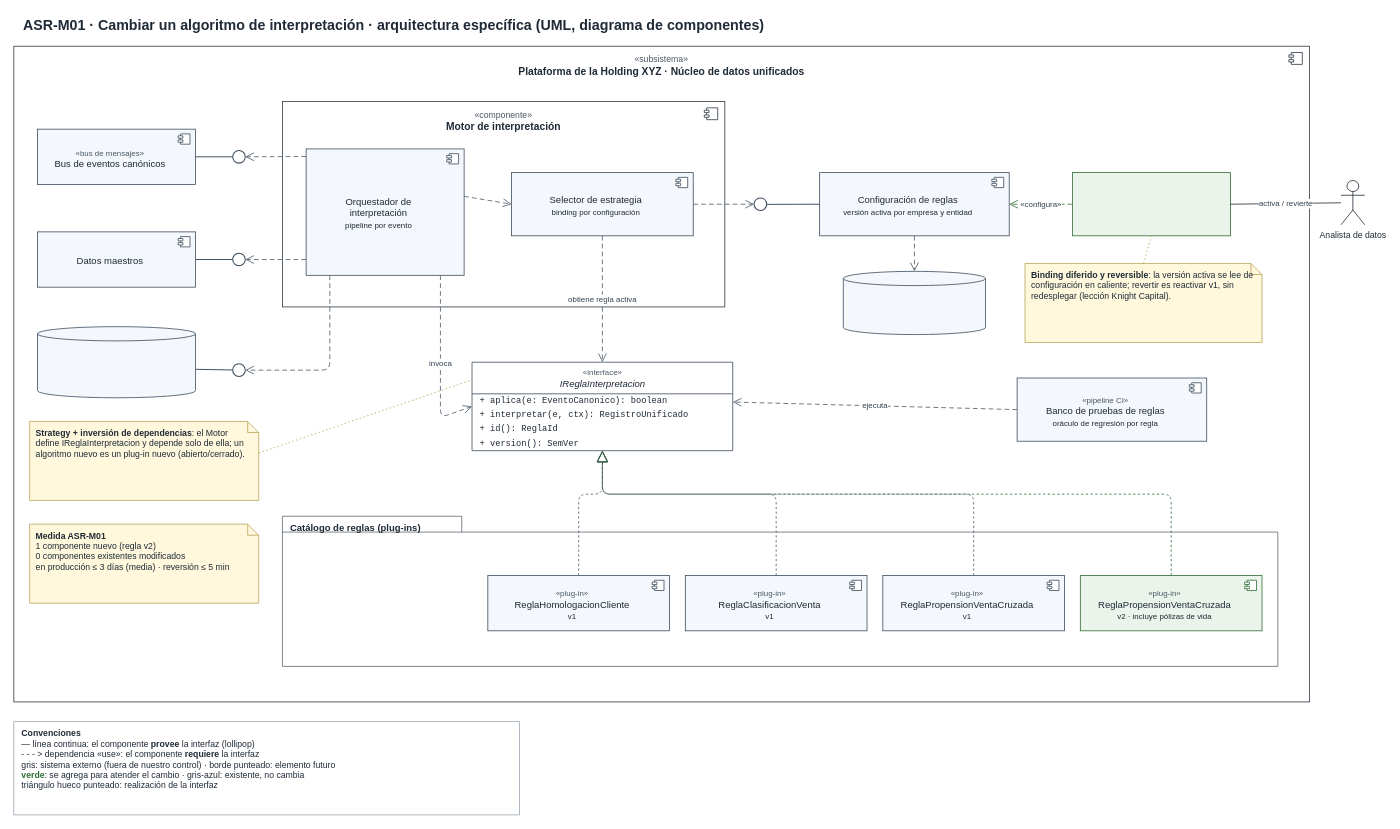
Some shapes in this 1400 by 829 pixel diagram are drawn without their labels. Here are the shapes that lost their labels. From the top down, the centre of each, then its label:
the point at 238,156: ISuscribirEvento
the point at 760,204: IConfiguracionReglas
the point at 1151,204: «artefacto de configuración» Activación v2 alcance: Prepagada · Venta
the point at 238,259: IResolverIdentidad
the point at 914,303: «almacén» Bitácora de activaciones versión · alcance · autor · fecha
the point at 116,362: «almacén» Repositorio unificado
the point at 238,370: IRepositorioUnificado
